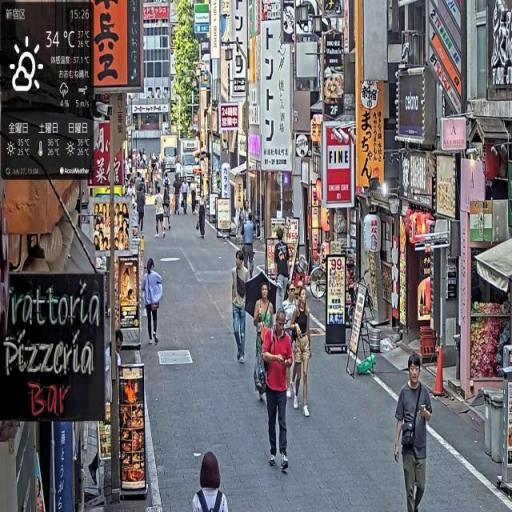person: (394, 351, 435, 512), (262, 305, 295, 475), (291, 288, 314, 421), (253, 281, 276, 401), (232, 248, 252, 371), (191, 450, 230, 512), (142, 258, 164, 349), (243, 213, 257, 281), (155, 189, 167, 238), (138, 181, 148, 235)
